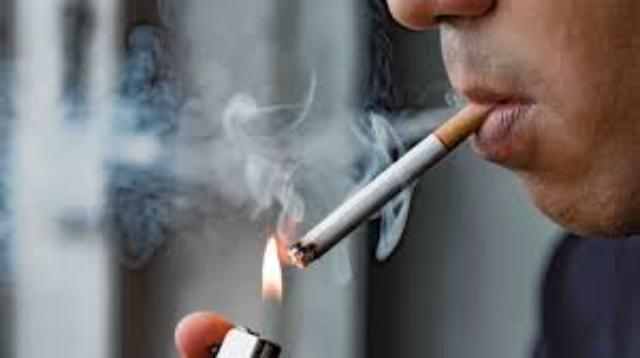Cigarette: (290, 97, 496, 269)
